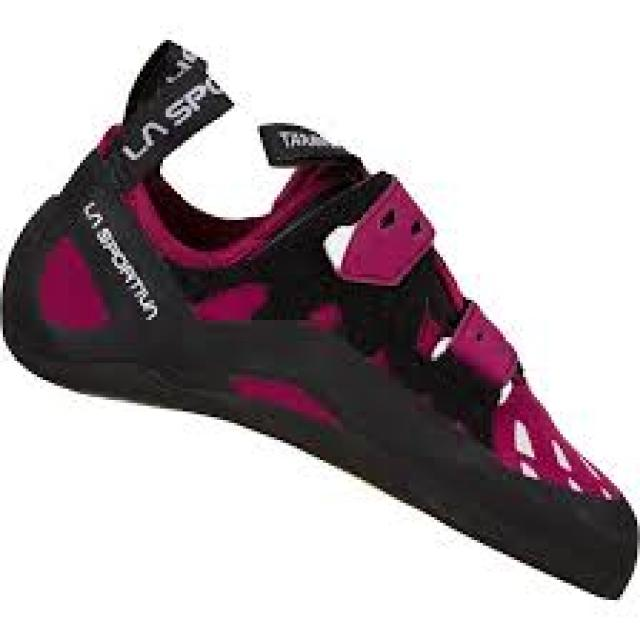climbing-shoes: (2, 38, 637, 599)
